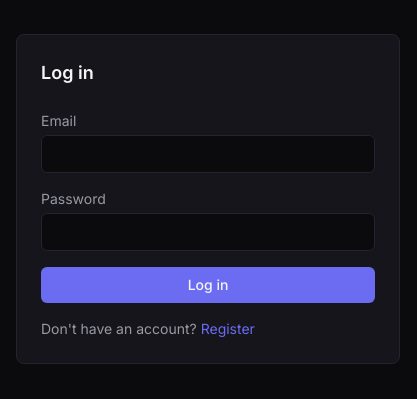
it: LoginPage › shows the backend's error message and does not redirect when login fails
Type "rohan@example.com" into the field labelled "Email".
click(208, 154); type("rohan@example.com")  # box x1=41 y1=135 x2=375 y2=173
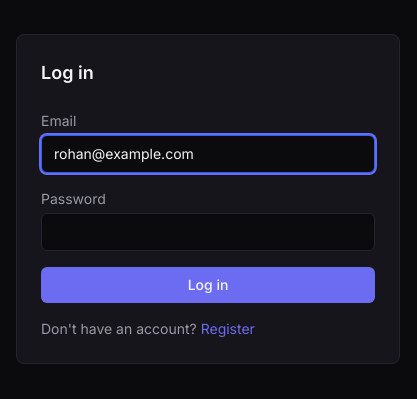
Type "wrong-password" into the password field labelled "Password".
click(208, 232); type("wrong-password")  # box x1=41 y1=213 x2=375 y2=251
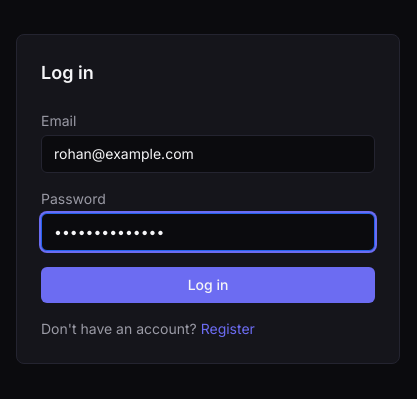
Click the button "Log in".
click(208, 285)  # box x1=41 y1=267 x2=375 y2=303
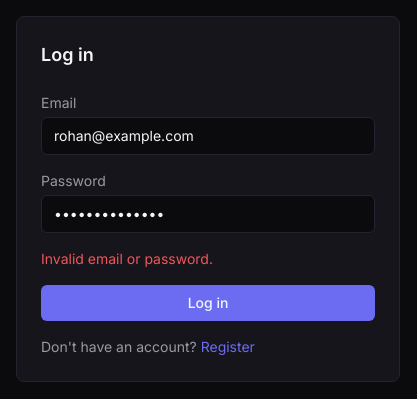
Now the text "Invalid email or password." is shown, box x1=41 y1=250 x2=213 y2=267
